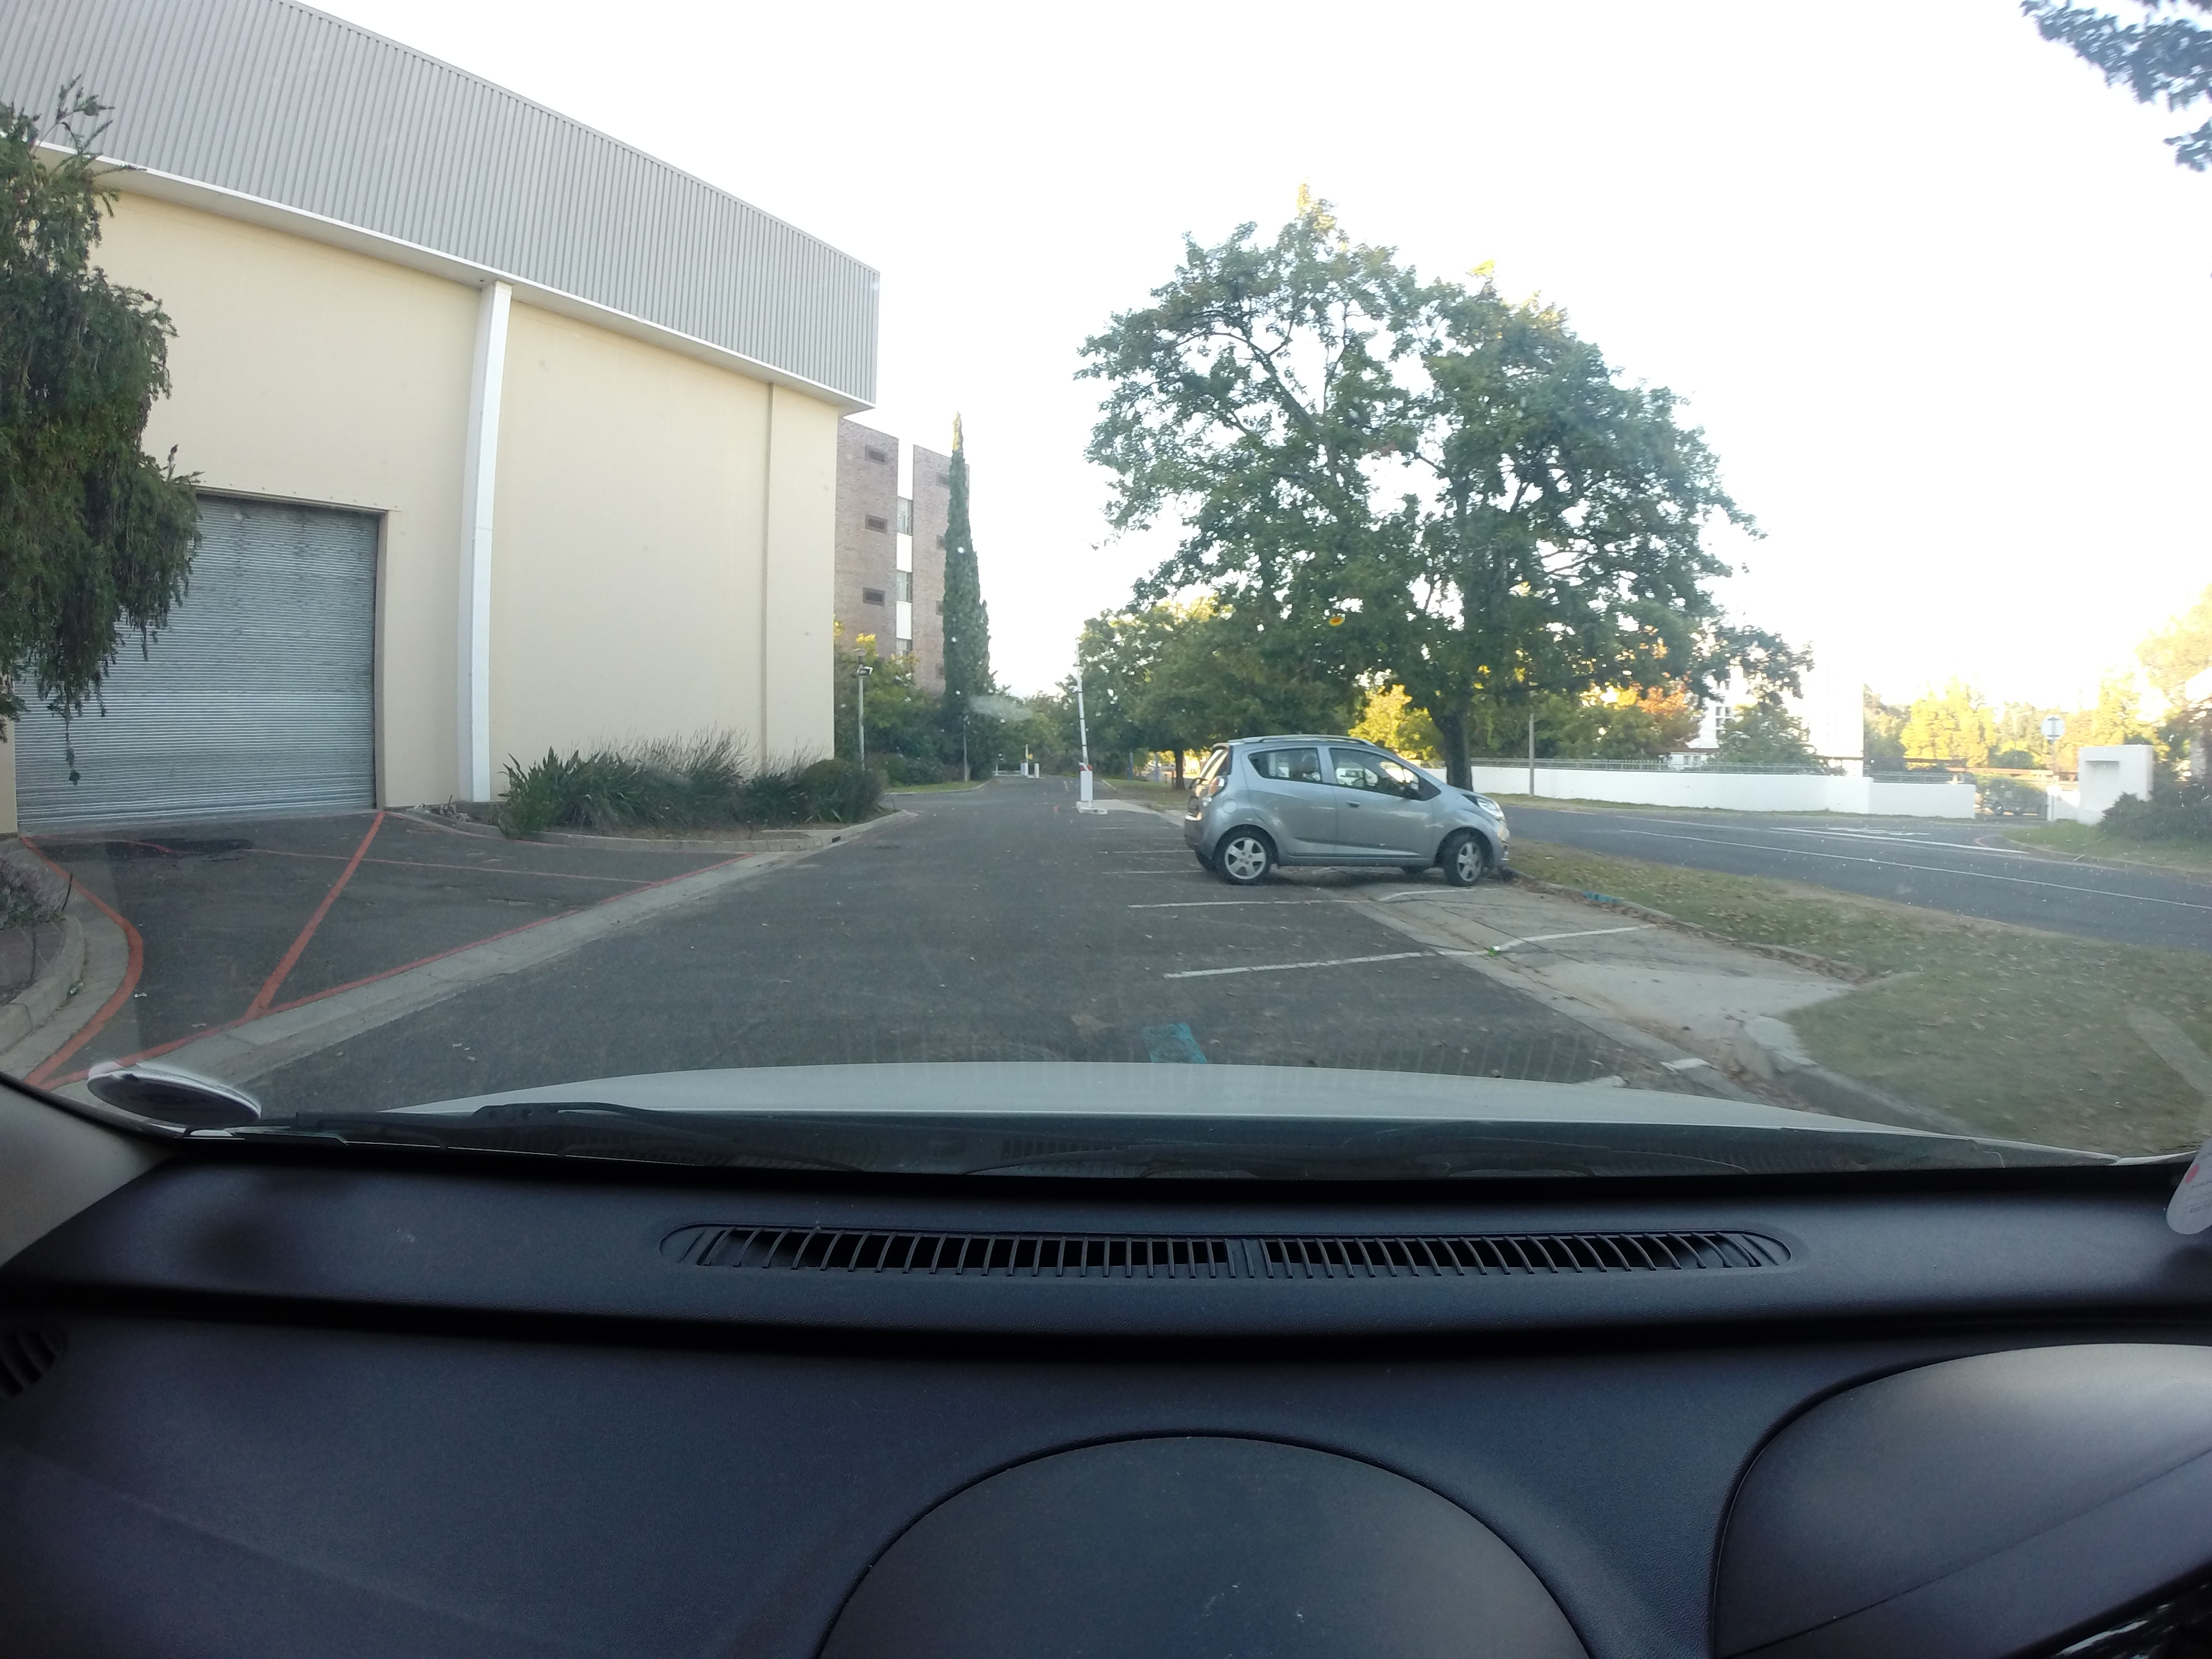pothole: (475, 892, 563, 910)
